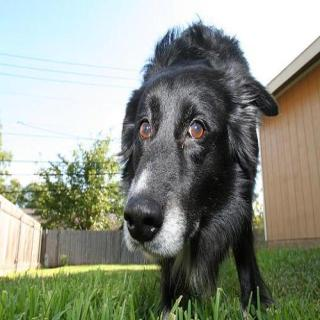dog: (104, 72, 274, 268)
nose: (115, 194, 166, 247)
